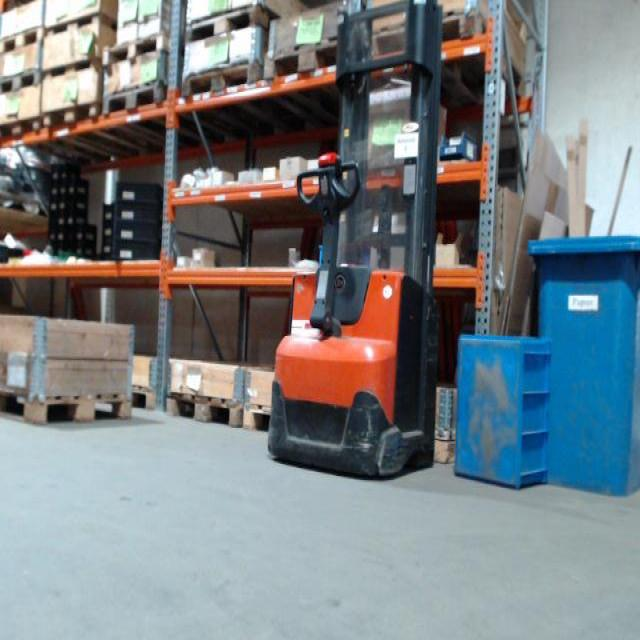pallet: (0, 382, 133, 438), (372, 15, 486, 69), (268, 33, 355, 87), (161, 386, 243, 437), (186, 2, 284, 44), (178, 59, 268, 104), (97, 76, 177, 125), (106, 27, 178, 75), (43, 7, 114, 46), (43, 96, 104, 133), (44, 51, 104, 85), (1, 24, 42, 59), (2, 67, 44, 98), (246, 400, 283, 435), (131, 375, 160, 416), (0, 114, 40, 143)
pallet_truck: (262, 2, 460, 480)
small_load_carrier: (317, 242, 374, 270), (117, 183, 162, 210), (111, 240, 163, 263), (114, 219, 161, 243), (114, 204, 162, 221)
